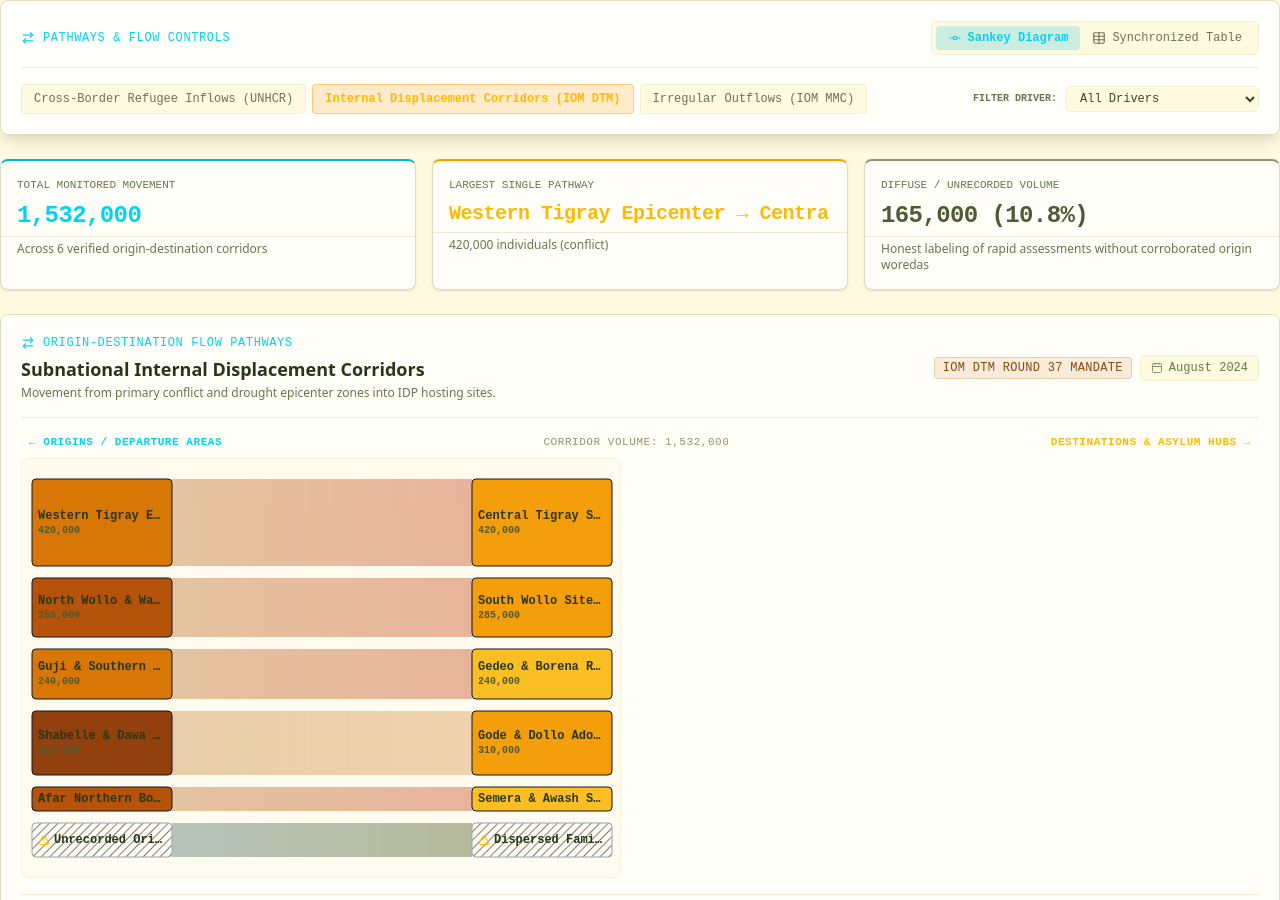
Visualization Quality, Empty & Error States › Chart Scale Integrity & Empty Fallbacks › renders PartialDataNotice in FlowExplorerView when driver filter is applied
Check: the text "Flow Driver Subset: DROUGHT" is not shown
Select "Drought & Climate" in the dropdown named "Filter flows by displacement driver" at (1162,99), box x1=1065 y1=86 x2=1259 y2=112
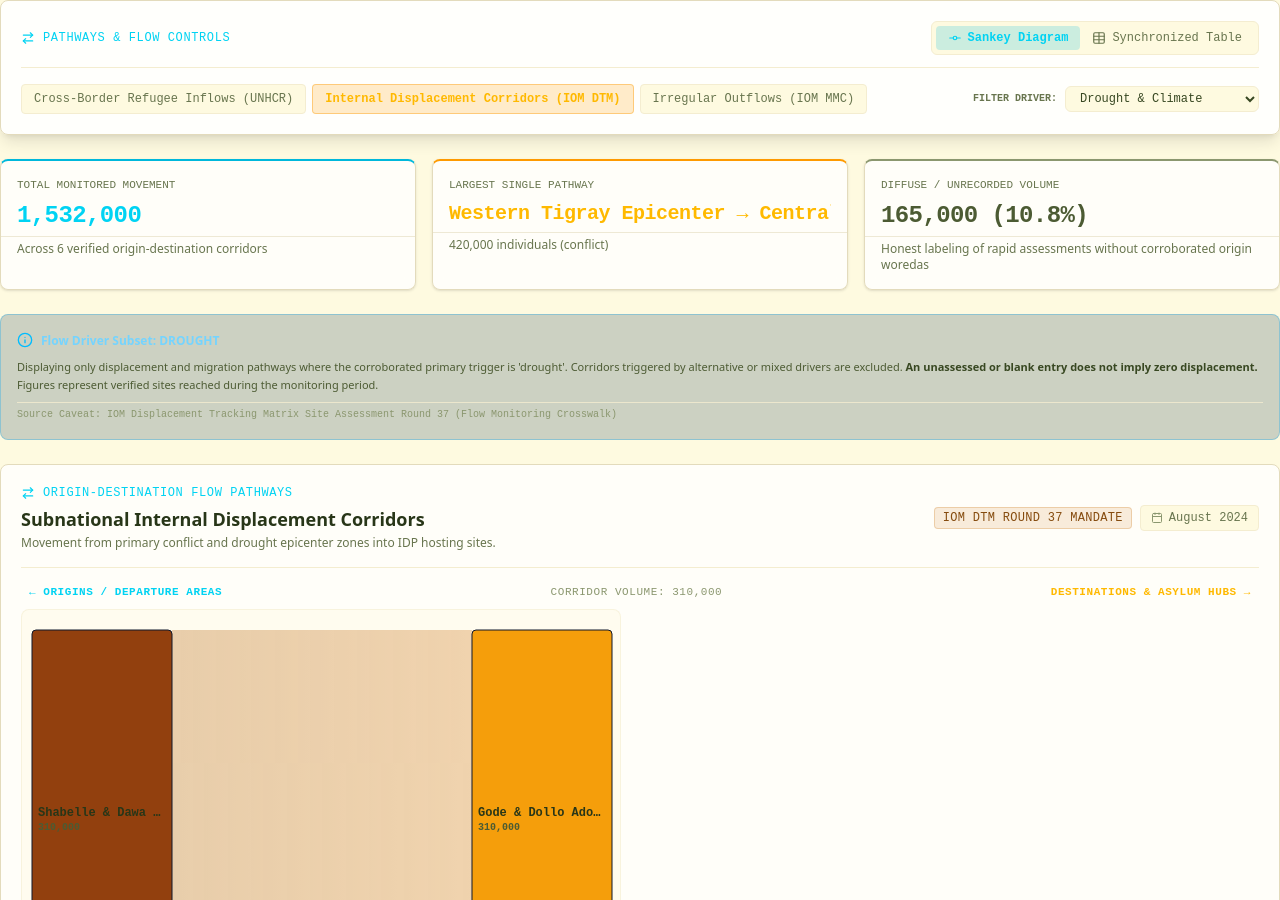
Check: the text "Flow Driver Subset: DROUGHT" is shown, box x1=41 y1=330 x2=220 y2=350
Check: the text "Displaying only displacement and migration pathways where the corroborated primary trigger is 'drought'" is shown, box x1=17 y1=359 x2=903 y2=374
